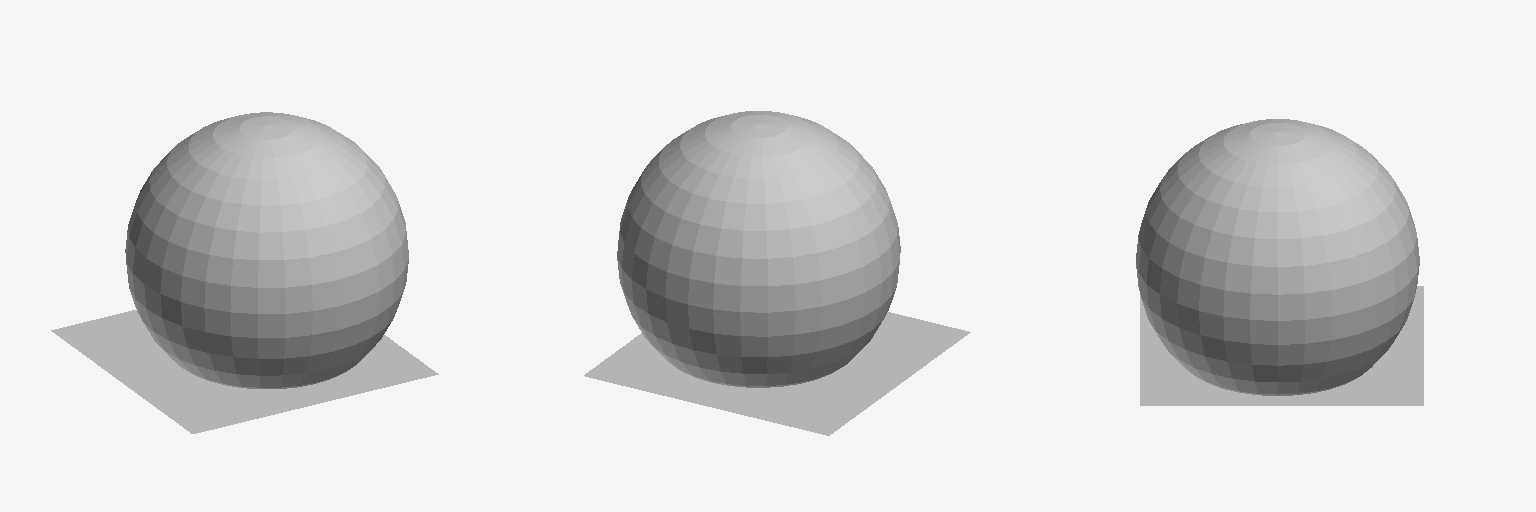
File: ball.obj
3 renders of one model, left to right at view 1: azimuth 30°, elevation 25°; view 2: azimuth 150°, elevation 25°; view 3: azimuth 270°, elevation 25°, orthographic.
Visible parts, largest first — view 1: Sphere, Grid; view 2: Sphere, Grid; view 3: Sphere, Grid.
Part boxes in pixels (x1,y1,x2,y2): Sphere: (125, 112, 408, 388); Grid: (51, 310, 438, 433); Sphere: (617, 111, 900, 387); Grid: (584, 312, 970, 435); Sphere: (1136, 119, 1419, 395); Grid: (1140, 286, 1423, 405).
Bounding box in the file's own units: 2.16 × 2 × 2.03.